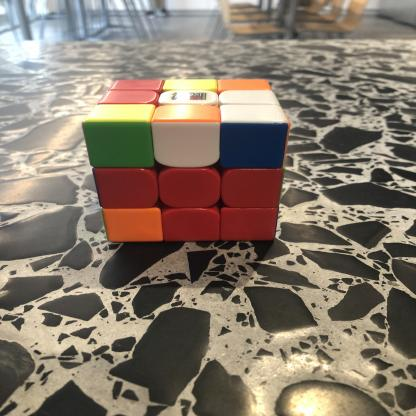UnsolvedCube: (70, 72, 310, 256)
